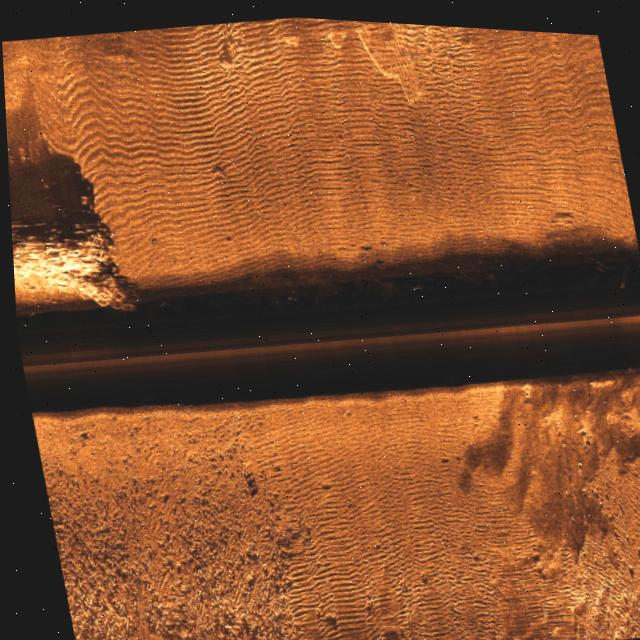artificial reef: (8, 188, 152, 332)
